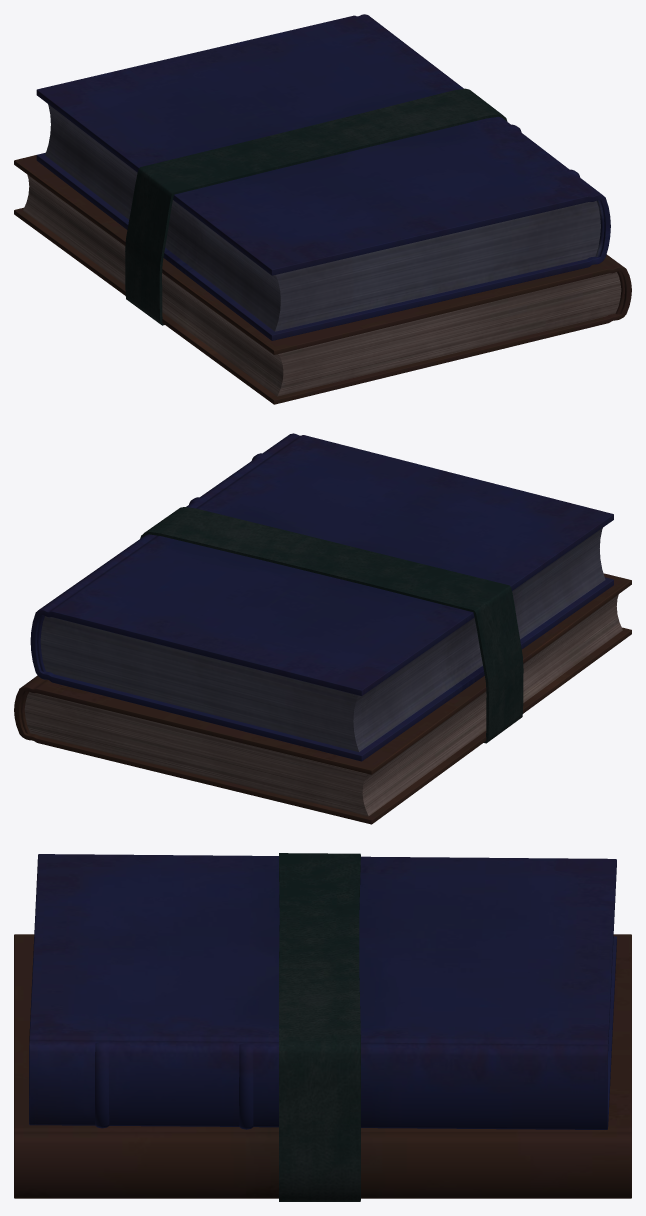
3 views of the same model, one above another, from view 1: azimuth 30°, elevation 25°; view 2: azimuth 150°, elevation 25°; view 3: azimuth 270°, elevation 25° (orthographic). The views are drawn at different scales.
Visible parts, largest first — view 1: books_geo, strap_geo; view 2: books_geo, strap_geo; view 3: books_geo, strap_geo.
Boxes of the visible parts, x1,y1,x2,y2 form: books_geo: (14, 14, 631, 404); strap_geo: (125, 88, 507, 325); books_geo: (14, 433, 631, 824); strap_geo: (140, 507, 523, 743); books_geo: (14, 854, 631, 1198); strap_geo: (279, 853, 360, 1201).
Bounding box in the file's own units: 21.63 × 7.44 × 26.83.
Materials: 3 (3 with a texture image).
